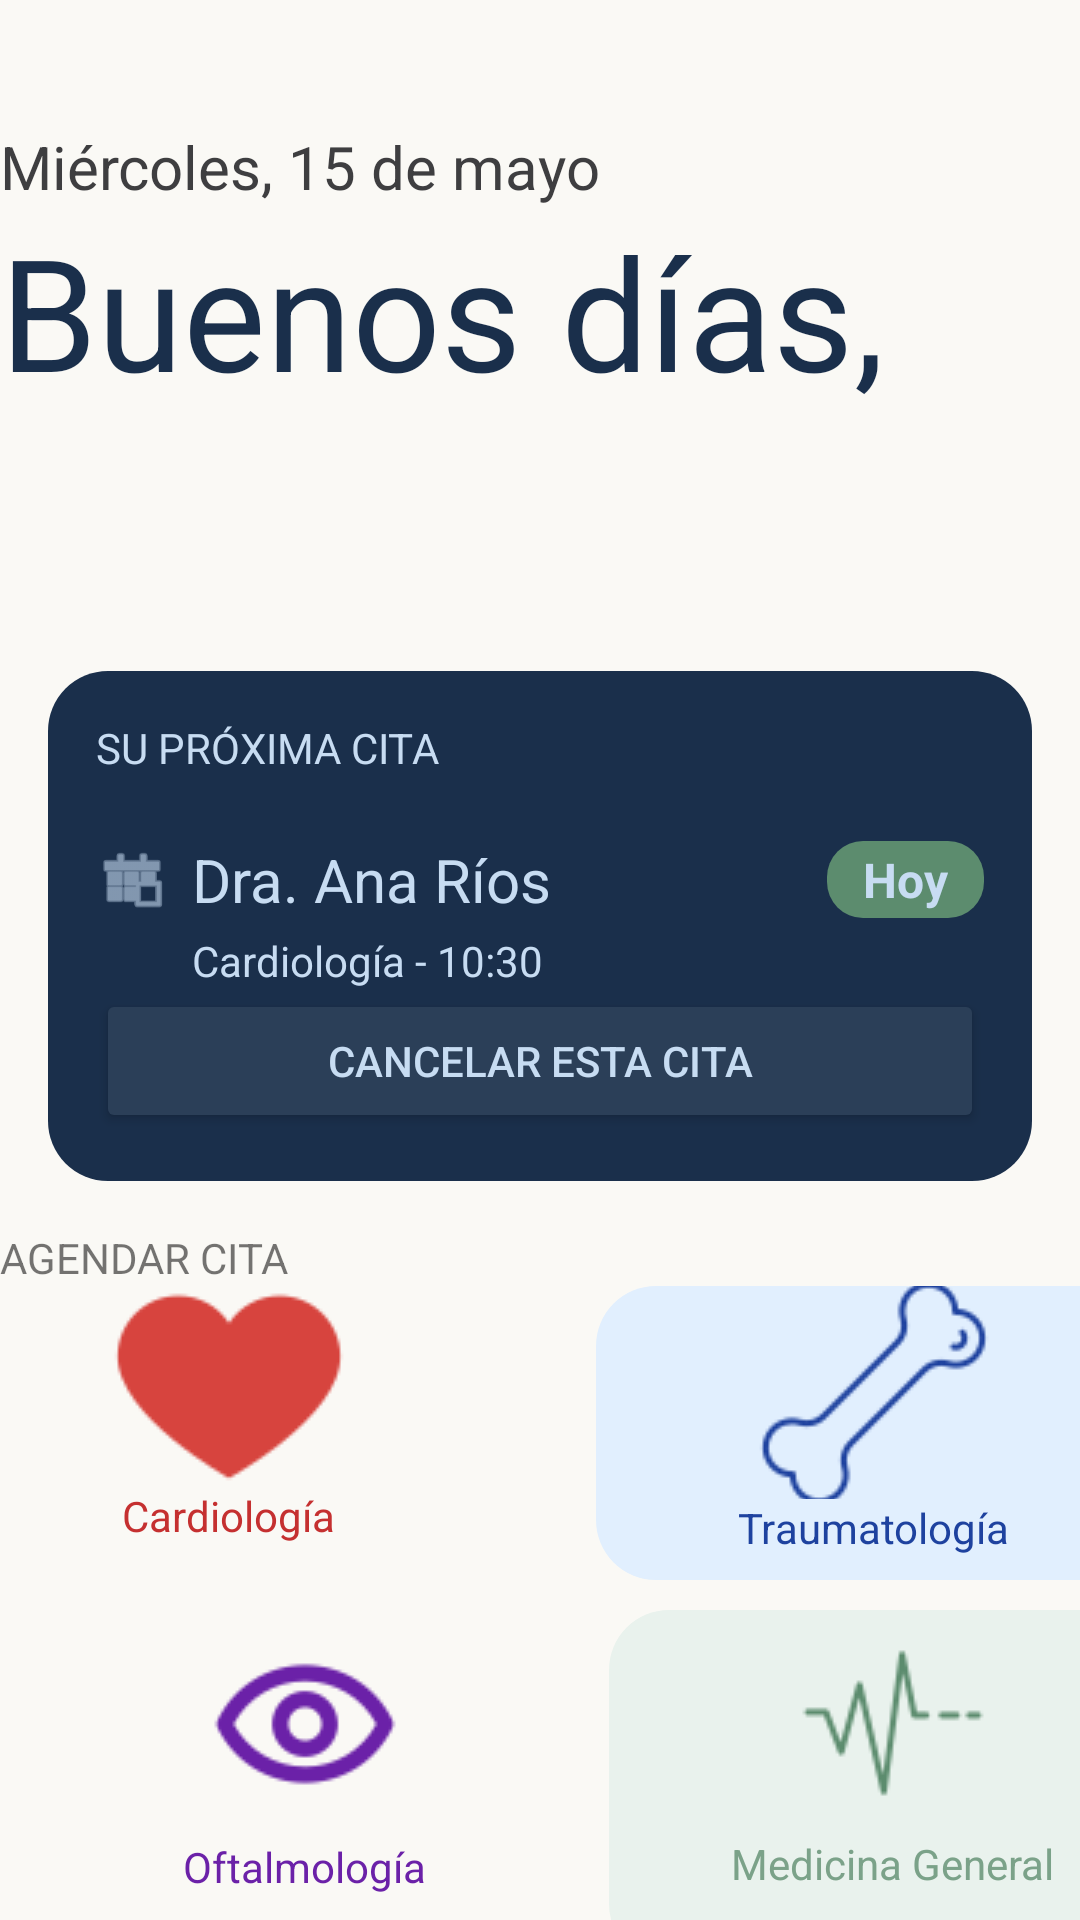

Screen size 1080x1920. Icon name, then its center in pixels as [x,y]:
ojo: [305,1724]
today: [132,880]
